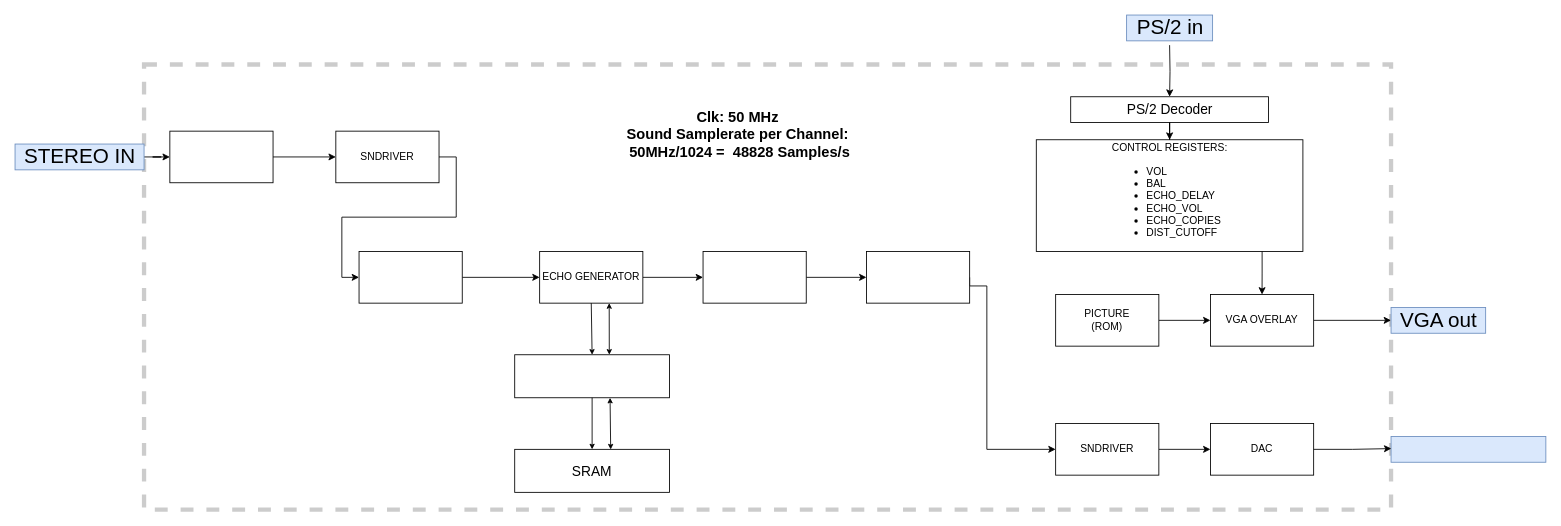
Image size: 1561x526. Some labels were removed from this diagram. The shapes that lost their labels are listed below. From the top down, each one's centre as x and y in pixels, then its label:
(x=221, y=156): ADC
(x=410, y=277): DISTORTION
(x=754, y=277): VOLUME
(x=918, y=277): BALANCE
(x=592, y=376): SRAM Controller
(x=1468, y=449): STEREO OUT
